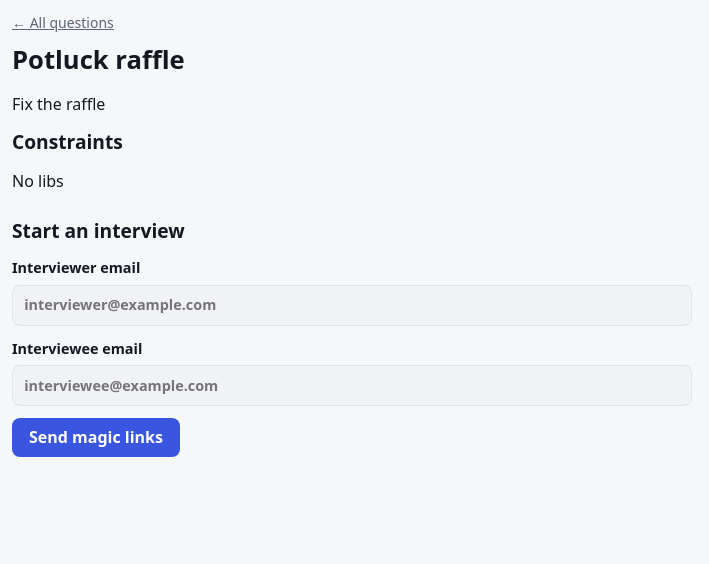
Test: QuestionPage › shows the question and validates emails
Expected: the heading "Potluck raffle" is shown, [12,42,185,77]
Expected: the text "No libs" is shown, [12,170,64,192]
Click the button "Send magic links" at (96, 437), box [12,418,180,457]
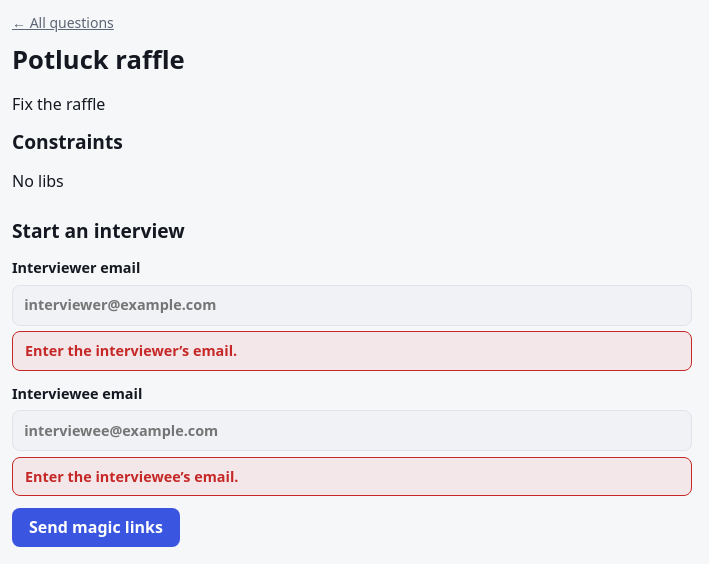
Result: the text "Enter the interviewer’s email." is shown at [12,331,692,371]
Result: the text "Enter the interviewee’s email." is shown at [12,457,692,496]
Type "not-an-email" into the field labelled "Interviewer email Enter the interviewer’s email." at (352, 305), box [12,284,692,326]
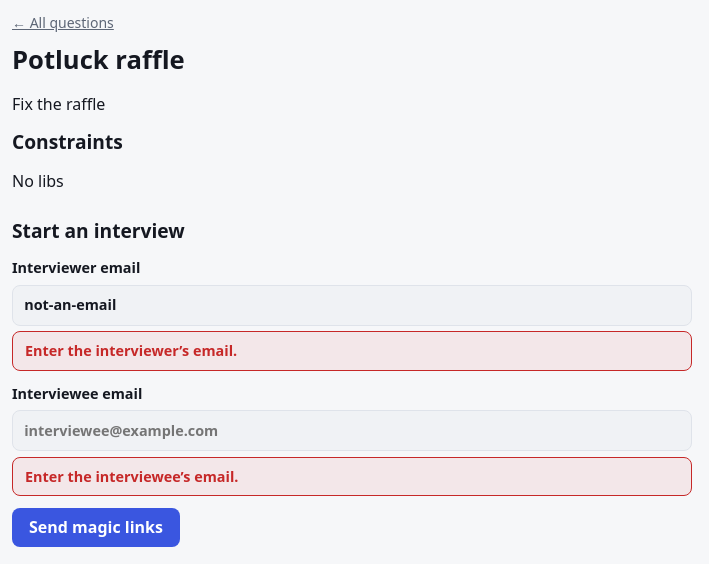
Type "b@example.com" into the field labelled "Interviewee email Enter the interviewee’s email." at (352, 431), box [12,410,692,451]
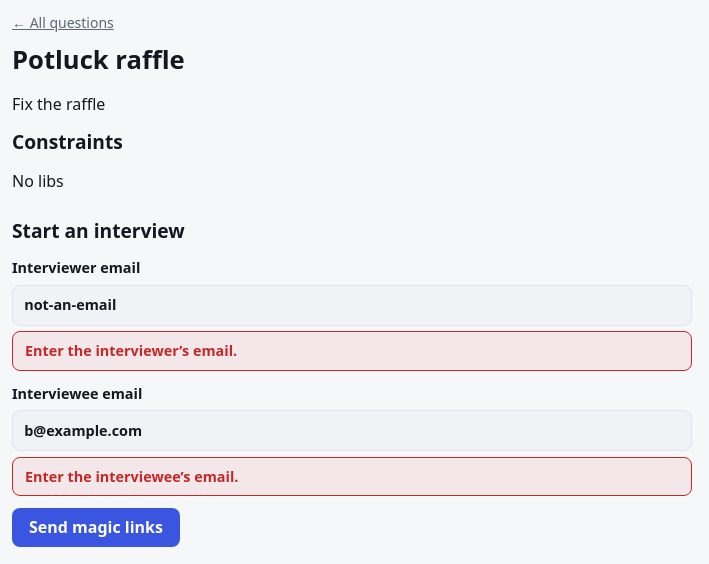
Click the button "Send magic links" at (96, 528), box [12,508,180,547]
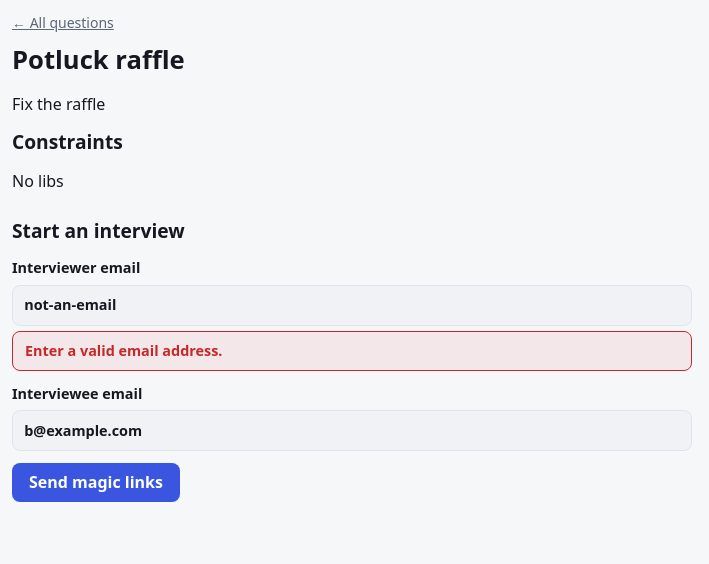
Result: the text "Enter a valid email address." is shown at [12,331,692,371]
